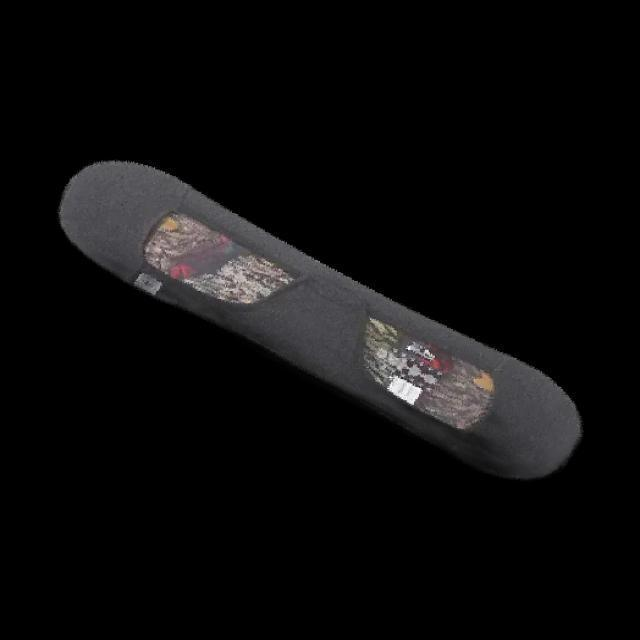Snowboard: (57, 158, 583, 481)
